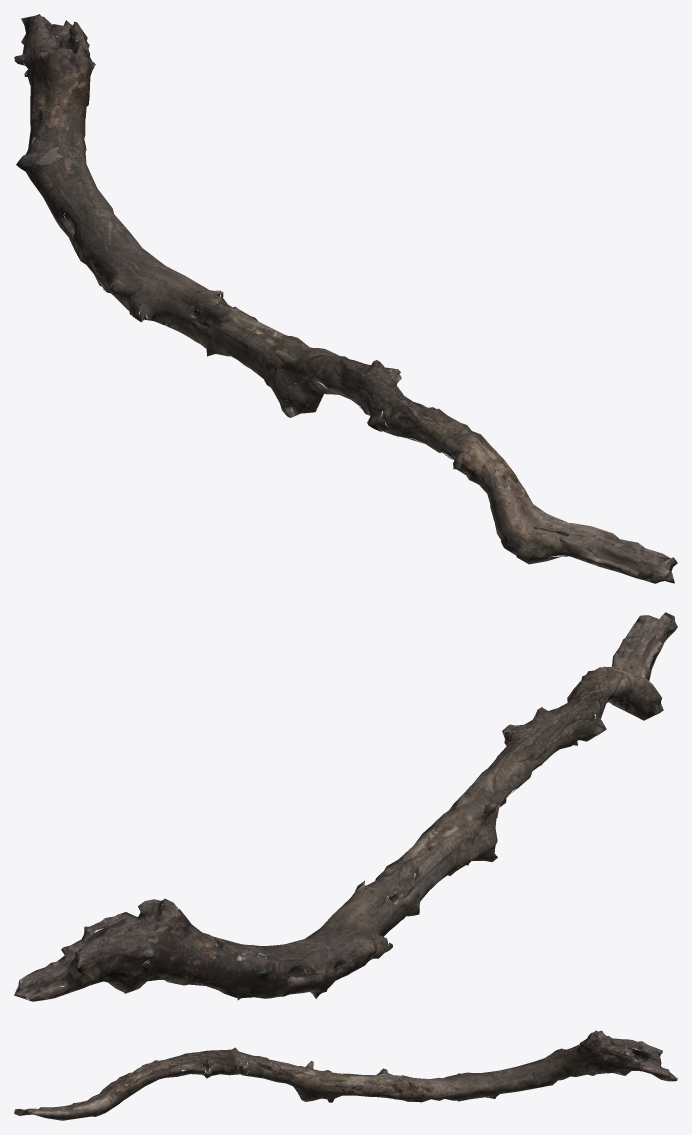
Rendered from dry-branches-medium-01-b.glb.
The picture shows the model from 3 angles, top to bottom: view 1: azimuth 30°, elevation 25°; view 2: azimuth 150°, elevation 25°; view 3: azimuth 270°, elevation 25°; orthographic projection. The views are drawn at different scales.
Parts seen in each view (by area): view 1: dry_branches_medium_01_b; view 2: dry_branches_medium_01_b; view 3: dry_branches_medium_01_b.
Boxes of the visible parts, x1,y1,x2,y2 form: dry_branches_medium_01_b: [14, 14, 677, 583]; dry_branches_medium_01_b: [14, 612, 677, 1001]; dry_branches_medium_01_b: [14, 1030, 677, 1120].
Size of the model in its own units: 0.1512 by 0.1422 by 1.04.
1 material, 1 textured.
